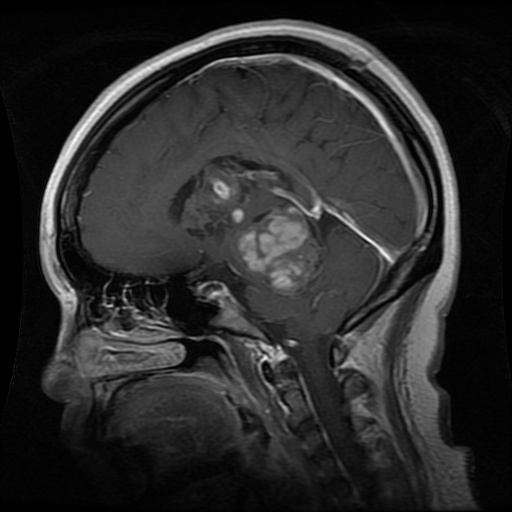glioma: (186, 155, 342, 294)
